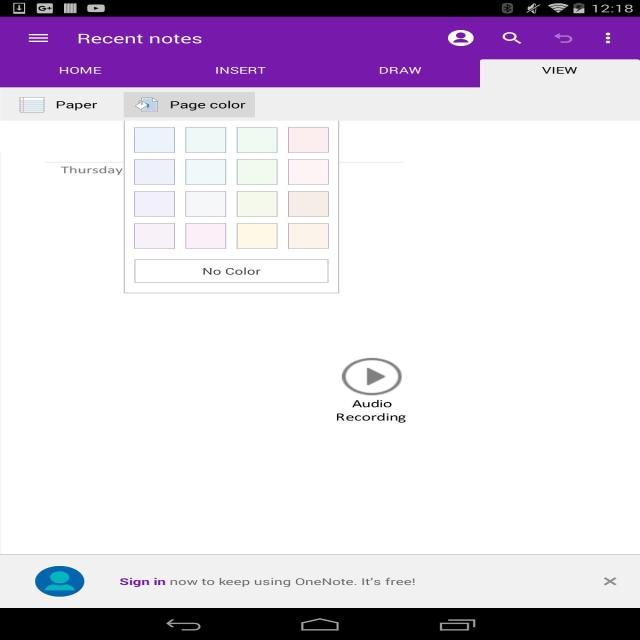button: (133, 260, 330, 286), (3, 54, 155, 86), (322, 54, 464, 88), (168, 54, 303, 87), (482, 59, 638, 87), (127, 90, 256, 118), (8, 90, 120, 120), (489, 27, 532, 52), (546, 26, 582, 54), (442, 26, 479, 51), (592, 25, 625, 53), (25, 30, 53, 48), (596, 574, 622, 591)
heading: (72, 30, 212, 51)
image: (126, 121, 337, 256), (329, 355, 415, 397), (34, 562, 86, 600), (14, 95, 48, 113), (131, 95, 161, 114)
link: (115, 574, 168, 588)
text: (116, 574, 425, 593), (329, 397, 416, 425), (164, 98, 251, 112), (195, 263, 268, 279), (62, 163, 124, 180), (208, 62, 272, 78), (372, 62, 428, 78), (49, 98, 102, 113), (53, 63, 105, 78), (537, 63, 587, 78)
